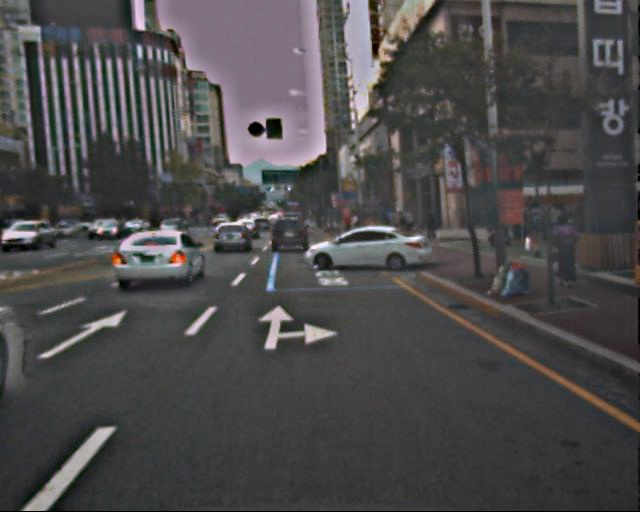person: (548, 214, 579, 290), (522, 198, 548, 261), (425, 213, 436, 241), (402, 209, 412, 234)
